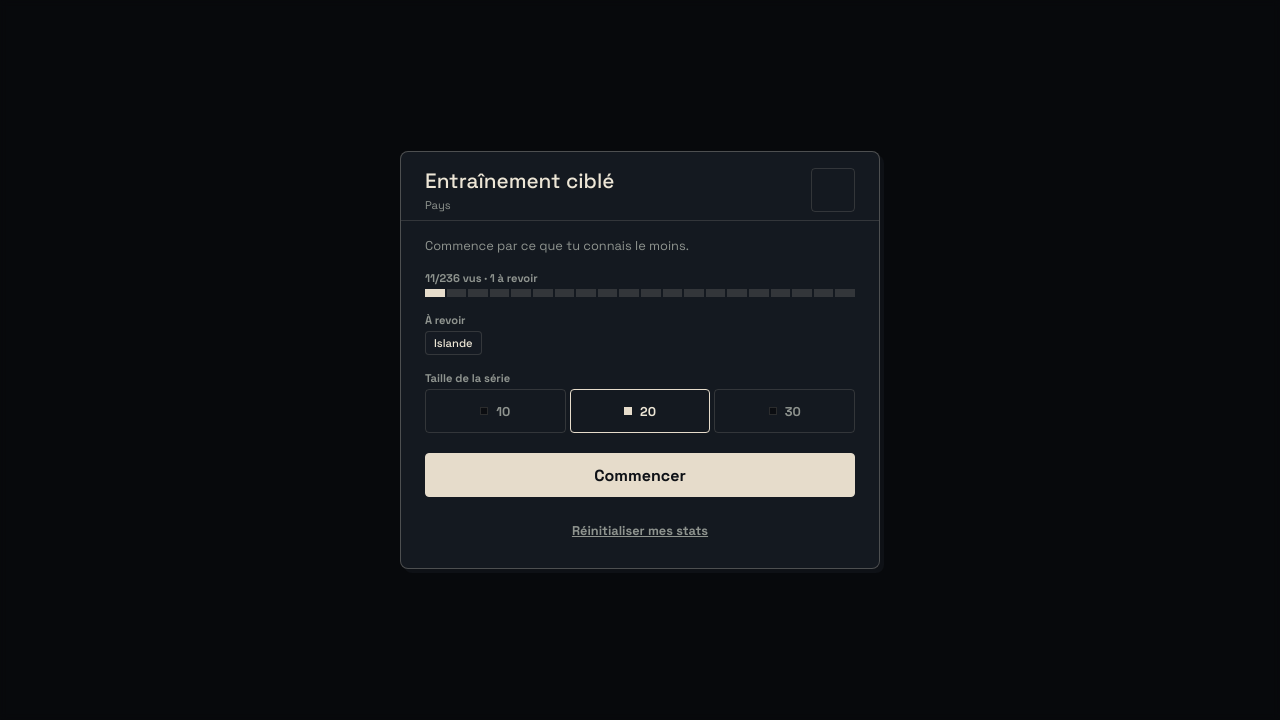
Test case: TrainingSheet › clears stats via the 2-step reset flow and returns to empty state
# Initial click on reset button
Step 1. Click the button "Réinitialiser mes stats" → (640, 531), box [555,517,725,544]
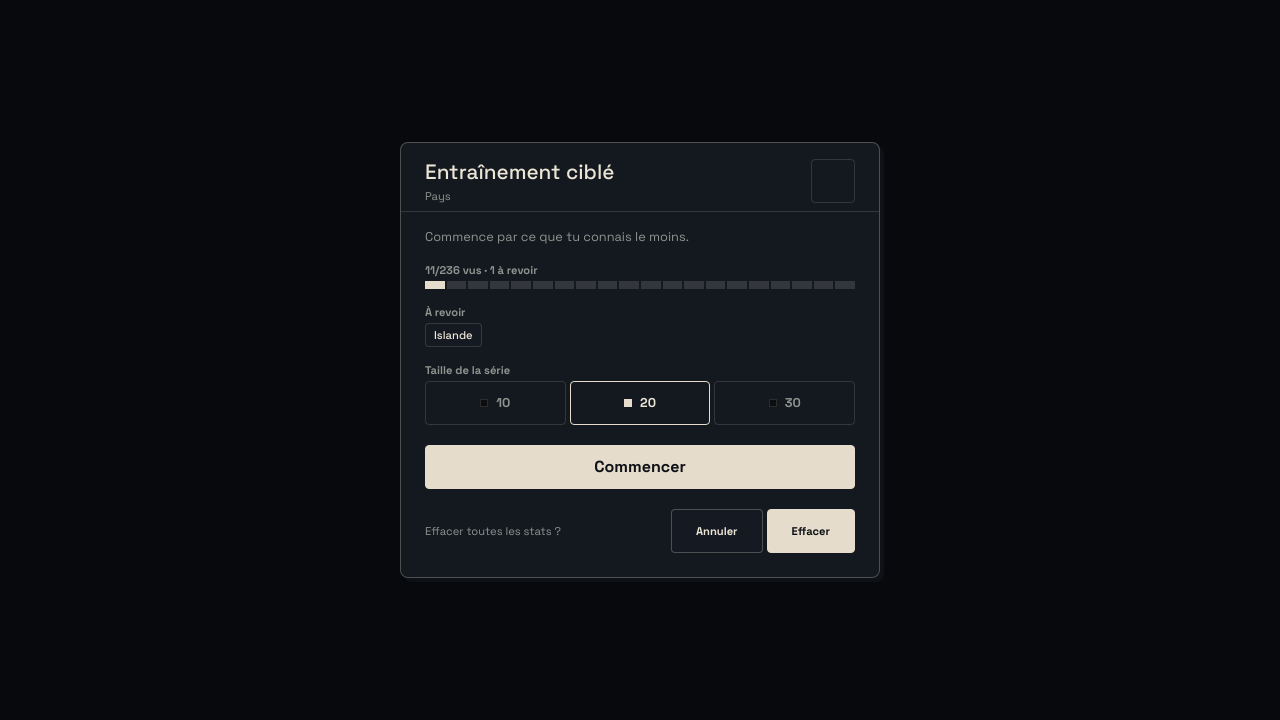
Expected: the text "Effacer toutes les stats ?" is shown, [425,524,561,538]
Step 2. Click the button "Effacer" → (811, 531), box [767,509,855,553]
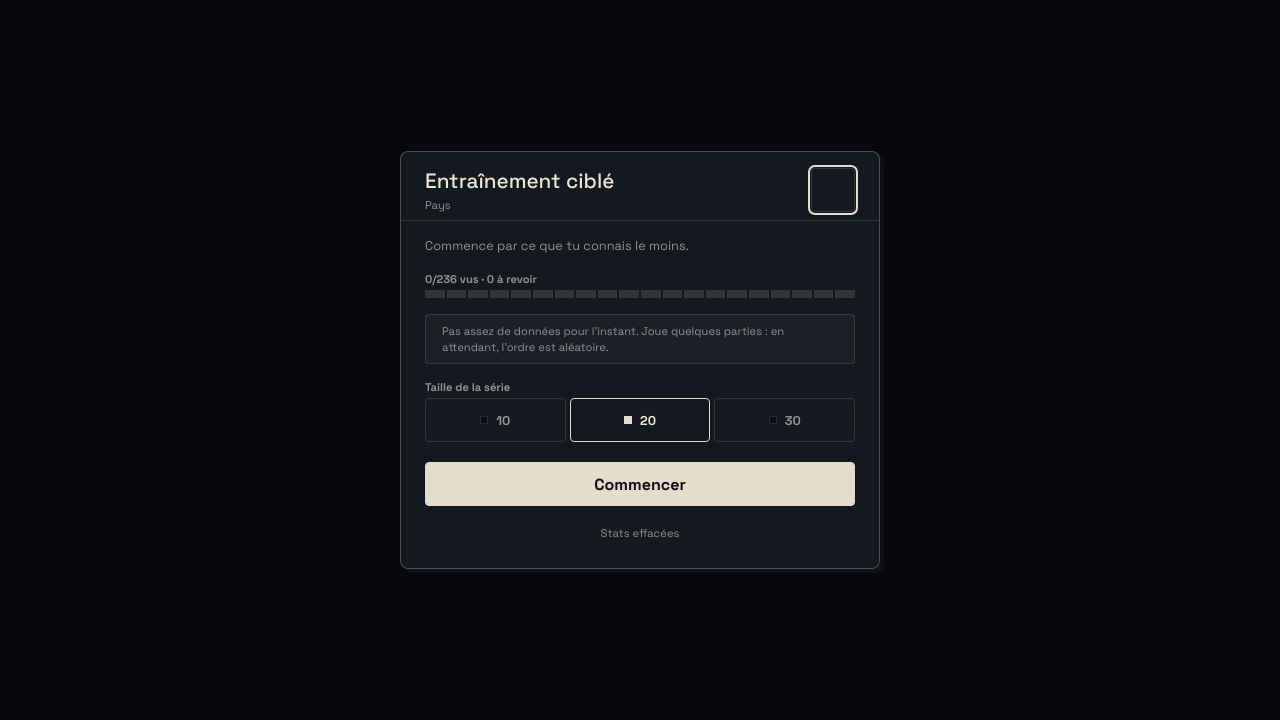
Expected: the text "Pas assez de données pour l'instant" is shown, [442,324,784,354]
Expected: the message reads "Stats effacées", [600,526,679,540]
